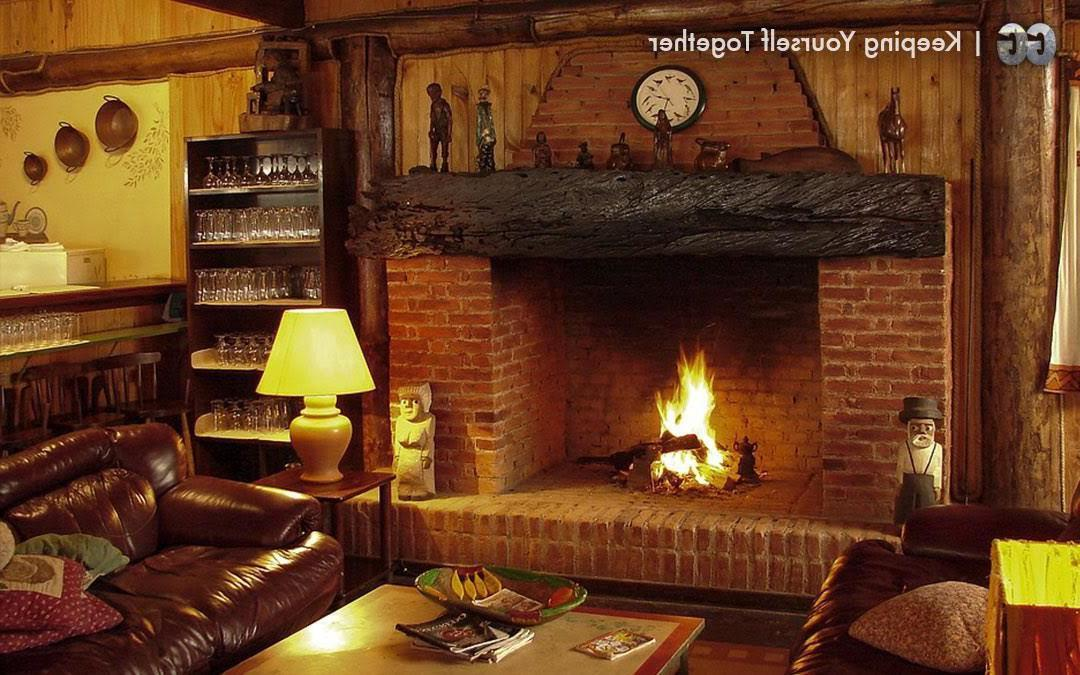Fire: (645, 337, 734, 494)
